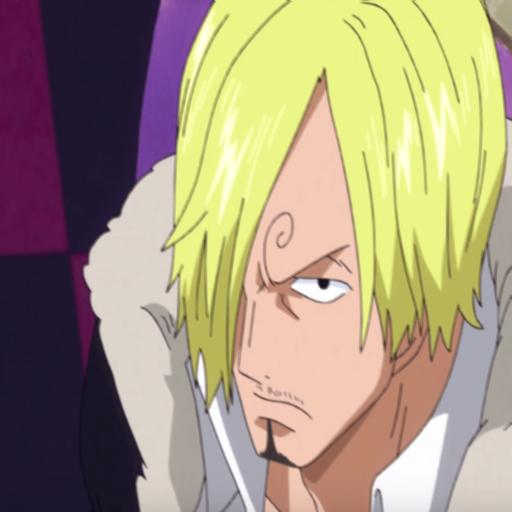sanji: (88, 3, 512, 512)
